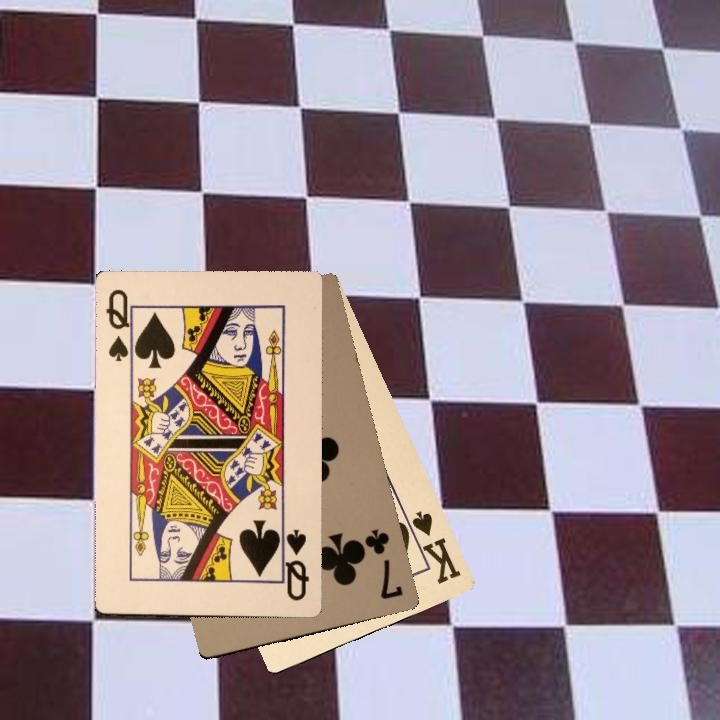7c: (359, 525, 406, 602)
Ks: (402, 508, 463, 587)
Qs: (102, 286, 139, 364), (277, 523, 311, 603)
